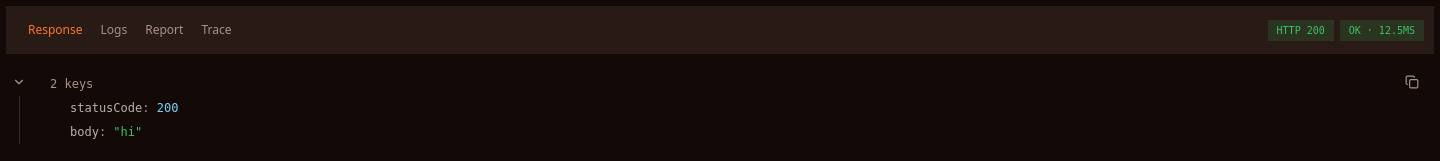
Test: still says there are no logs when the run printed nothing
The image size is (1440, 161).
Click the tab "Logs".
click(114, 30)  # box [92,16,136,44]
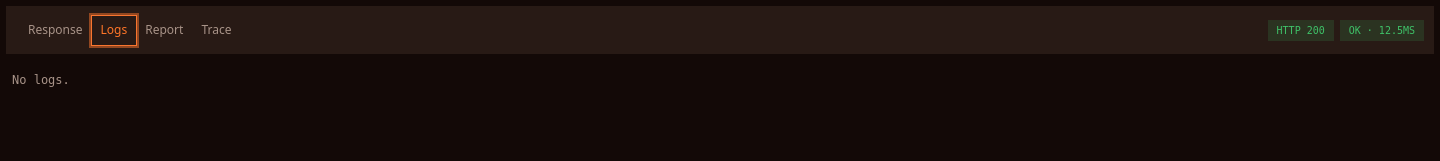
Now the text "No logs." is shown, box [12,73,70,87]
